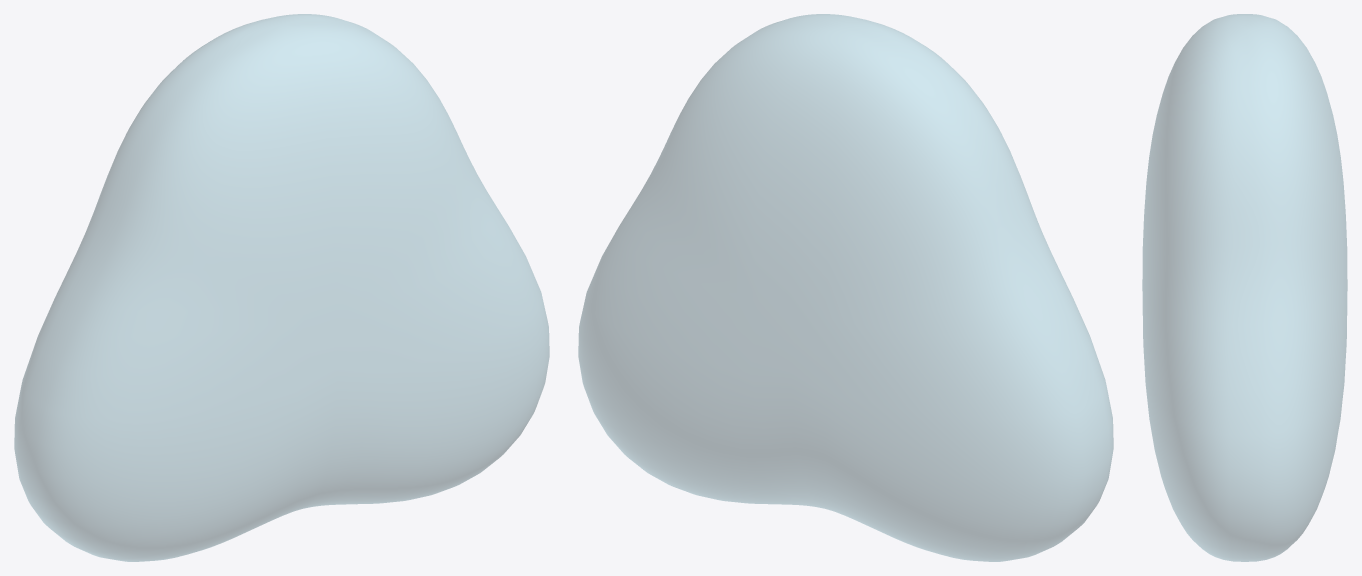
3 renders of one model, left to right at view 1: azimuth 30°, elevation 25°; view 2: azimuth 150°, elevation 25°; view 3: azimuth 270°, elevation 25°, orthographic. The views are drawn at different scales.
Parts seen in each view (by area): view 1: gel-body; view 2: gel-body; view 3: gel-body.
Part boxes in pixels (x1,y1,x2,y2): gel-body: (14, 14, 549, 561); gel-body: (578, 14, 1113, 561); gel-body: (1142, 14, 1347, 561).
Bounding box in the file's own units: 1.87 × 1.72 × 0.7.
